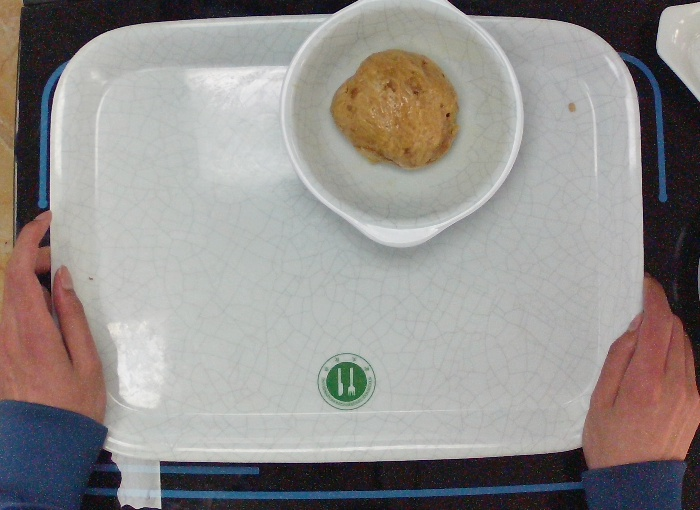JYsf-Shuang_Er_Wan: (275, 1, 532, 256)
